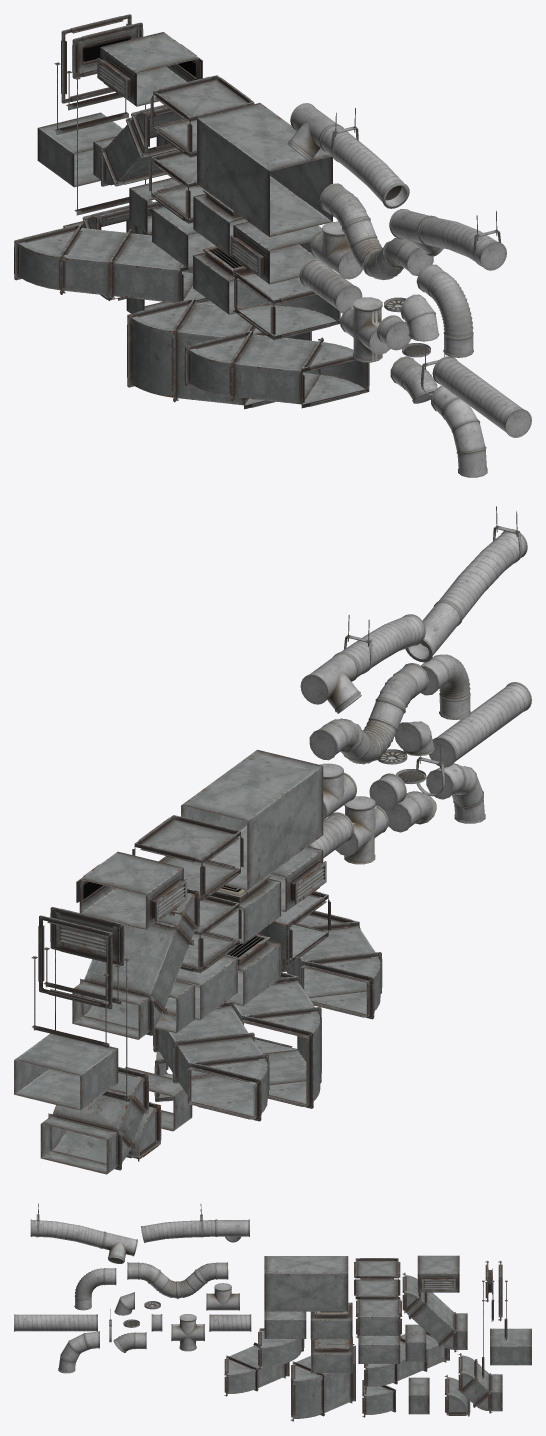
Rendered from DuctPipes.fbx.
3 views of the same model, one above another, from view 1: azimuth 30°, elevation 25°; view 2: azimuth 150°, elevation 25°; view 3: azimuth 270°, elevation 25° (orthographic). The views are drawn at different scales.
Visible parts, largest first — view 1: SM_Duct_L_2m_A.mo, SM_Duct_M_Skew_1m_B.mo, SM_Duct_M_Skew_150m_B.mo, SM_DuctRoundSet_Bent.mo, SM_Duct_L_Skew_1m.mo, SM_Duct_M_Vent_D.mo, SM_Duct_M_Corner_B.mo, SM_DuctRound_Bent.mo, SM_Duct_M_Skew_1m_A.mo, SM_Duct_M_4way.mo, SM_Duct_M_Vent_C.mo, SM_Duct_M_1m_B.mo (+18 smaller); view 2: SM_Duct_L_2m_A.mo, SM_DuctRoundSet_Bent.mo, SM_Duct_M_Skew_1m_A.mo, SM_Duct_M_Skew_150m_B.mo, SM_Duct_M_Skew_150m_A.mo, SM_Duct_L_Skew_1m.mo, SM_Duct_M_Skew_1m_B.mo, SM_Duct_M_Vent_D.mo, SM_Duct_M_1m_B.mo, SM_DuctRound_Bent.mo, SM_Duct_M_4way.mo, SM_DuctRound_2m.mo (+19 smaller); view 3: SM_Duct_L_2m_A.mo, SM_DuctRoundSet_Bent.mo, SM_Duct_L_Skew_1m.mo, SM_Duct_M_Skew_1m_A.mo, SM_Duct_M_Skew_1m_B.mo, SM_DuctRound_Bent.mo, SM_Duct_M_4way.mo, SM_Duct_M_Skew_150m_B.mo, SM_Duct_M_Skew_150m_A.mo, SM_Duct_M_3way.mo, SM_Duct_M_Vent_D.mo, SM_Duct_M_1m_B.mo (+18 smaller).
Part boxes in pixels (x1,y1,x2,y2): SM_Duct_L_2m_A.mo: [197, 103, 332, 237]; SM_Duct_M_Skew_1m_B.mo: [184, 330, 369, 408]; SM_Duct_M_Skew_150m_B.mo: [14, 224, 209, 302]; SM_DuctRoundSet_Bent.mo: [287, 103, 506, 270]; SM_Duct_L_Skew_1m.mo: [127, 298, 311, 409]; SM_Duct_M_Vent_D.mo: [97, 32, 202, 106]; SM_Duct_M_Corner_B.mo: [233, 272, 340, 340]; SM_DuctRound_Bent.mo: [319, 183, 433, 280]; SM_Duct_M_Skew_1m_A.mo: [93, 105, 182, 186]; SM_Duct_M_4way.mo: [150, 75, 254, 157]; SM_Duct_M_Vent_C.mo: [230, 221, 332, 284]; SM_Duct_M_1m_B.mo: [37, 112, 122, 187]; SM_Duct_L_2m_A.mo: [181, 749, 323, 890]; SM_DuctRoundSet_Bent.mo: [300, 506, 527, 713]; SM_Duct_M_Skew_1m_A.mo: [72, 888, 199, 1039]; SM_Duct_M_Skew_150m_B.mo: [153, 1000, 269, 1121]; SM_Duct_M_Skew_150m_A.mo: [40, 1067, 148, 1174]; SM_Duct_L_Skew_1m.mo: [233, 972, 321, 1108]; SM_Duct_M_Skew_1m_B.mo: [281, 910, 382, 1019]; SM_Duct_M_Vent_D.mo: [76, 851, 187, 929]; SM_Duct_M_1m_B.mo: [14, 1033, 118, 1110]; SM_DuctRound_Bent.mo: [309, 663, 429, 764]; SM_Duct_M_4way.mo: [132, 815, 243, 901]; SM_DuctRound_2m.mo: [429, 682, 531, 767]; SM_Duct_L_2m_A.mo: [264, 1256, 348, 1311]; SM_DuctRoundSet_Bent.mo: [30, 1203, 249, 1263]; SM_Duct_L_Skew_1m.mo: [290, 1344, 355, 1421]; SM_Duct_M_Skew_1m_A.mo: [402, 1272, 467, 1352]; SM_Duct_M_Skew_1m_B.mo: [224, 1342, 289, 1396]; SM_DuctRound_Bent.mo: [127, 1262, 228, 1298]; SM_Duct_M_4way.mo: [354, 1258, 400, 1299]; SM_Duct_M_Skew_150m_B.mo: [364, 1332, 449, 1389]; SM_Duct_M_Skew_150m_A.mo: [458, 1353, 502, 1413]; SM_Duct_M_3way.mo: [355, 1297, 402, 1337]; SM_Duct_M_Vent_D.mo: [417, 1255, 459, 1292]; SM_Duct_M_1m_B.mo: [490, 1328, 531, 1365].
Bounding box in the file's own units: 267 × 534 × 1234.
